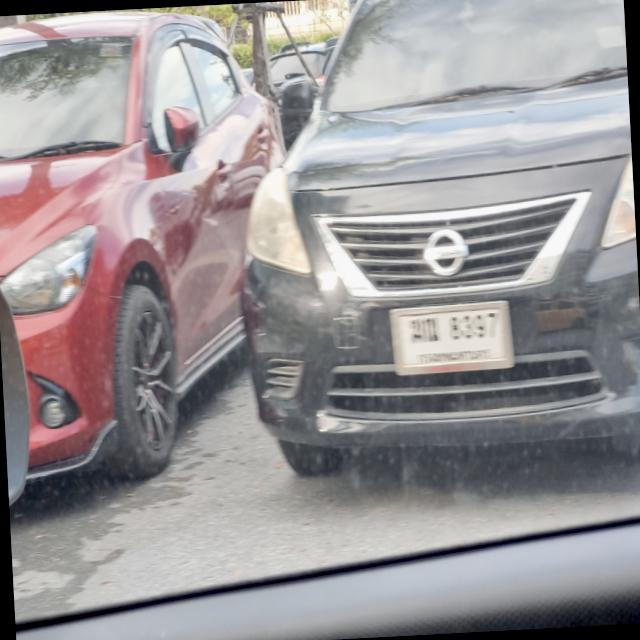license_plate: (387, 296, 516, 383)
